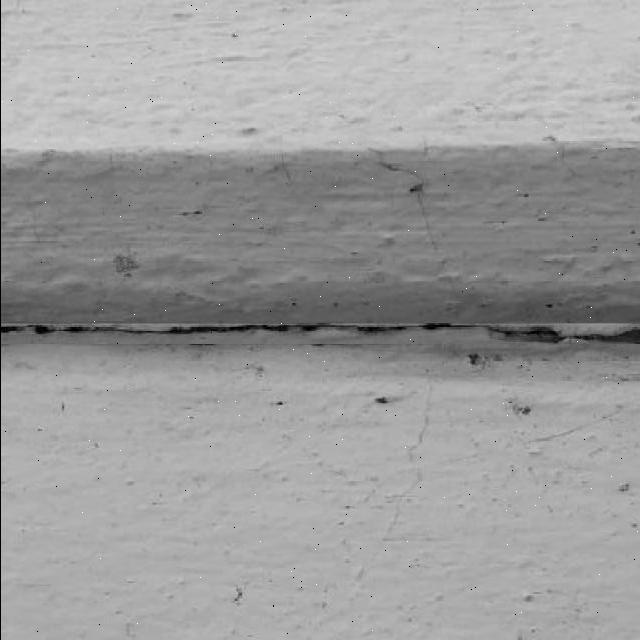crack: (363, 398, 635, 583), (9, 531, 371, 640), (323, 379, 446, 636), (147, 475, 333, 589), (3, 131, 626, 164), (157, 148, 318, 244), (316, 370, 640, 417), (292, 325, 634, 369), (126, 1, 302, 78), (8, 324, 637, 342), (16, 356, 240, 406), (420, 279, 640, 327), (290, 373, 435, 443), (95, 225, 223, 302), (380, 386, 438, 540), (3, 151, 191, 192), (303, 446, 412, 516), (7, 152, 85, 244), (528, 229, 640, 293), (4, 244, 129, 300), (542, 141, 640, 199), (5, 334, 309, 348), (530, 405, 632, 444), (15, 323, 275, 336), (150, 340, 488, 350), (250, 258, 348, 292), (396, 253, 455, 286), (409, 184, 435, 251), (269, 266, 308, 287), (541, 254, 581, 264), (378, 230, 404, 244), (345, 115, 368, 125)
dampens: (374, 153, 426, 191), (304, 322, 465, 334), (24, 323, 114, 334)
